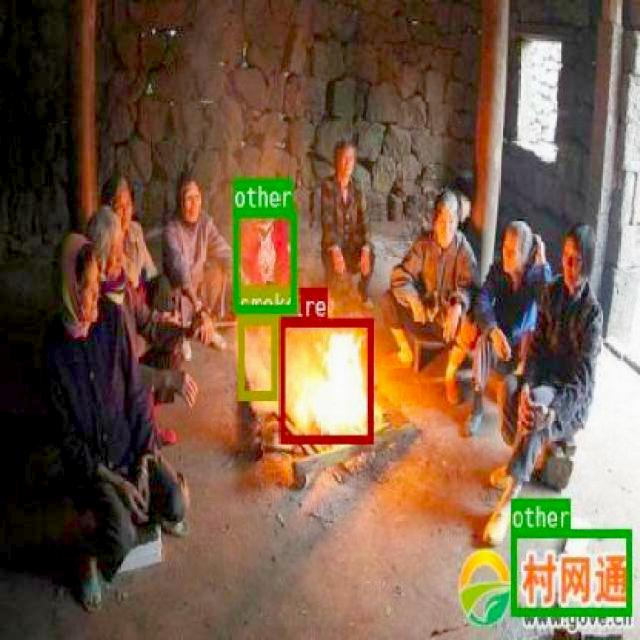fire: (278, 316, 372, 442)
smoke: (238, 316, 276, 398)
